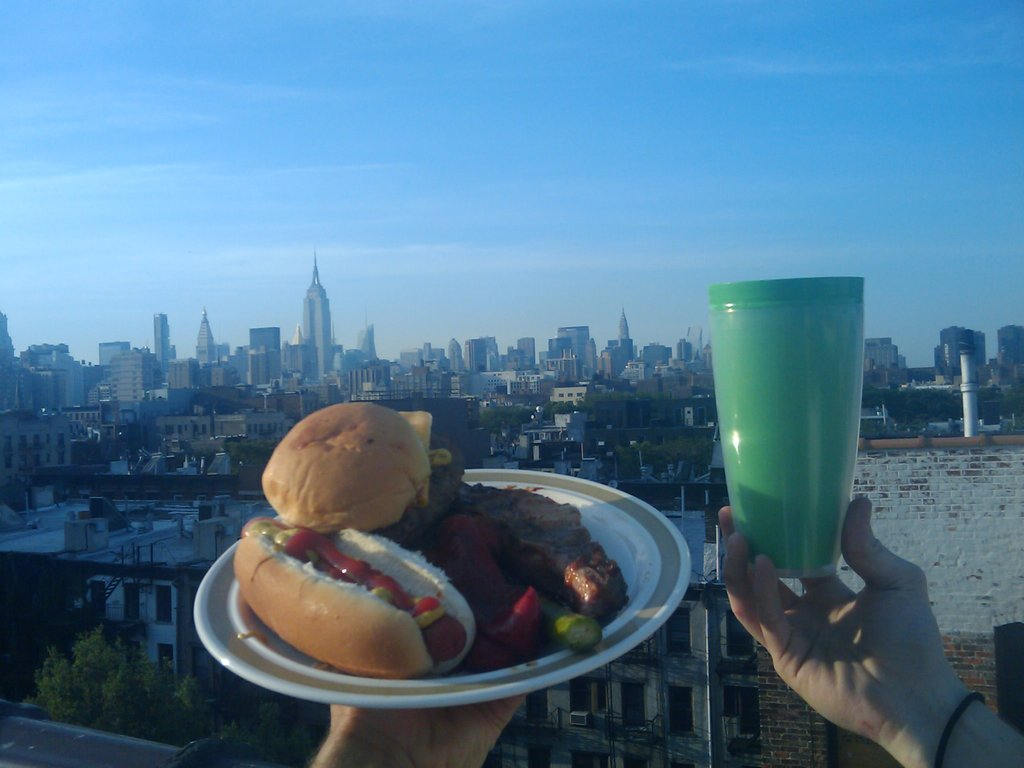Hamburger: (264, 395, 462, 551)
